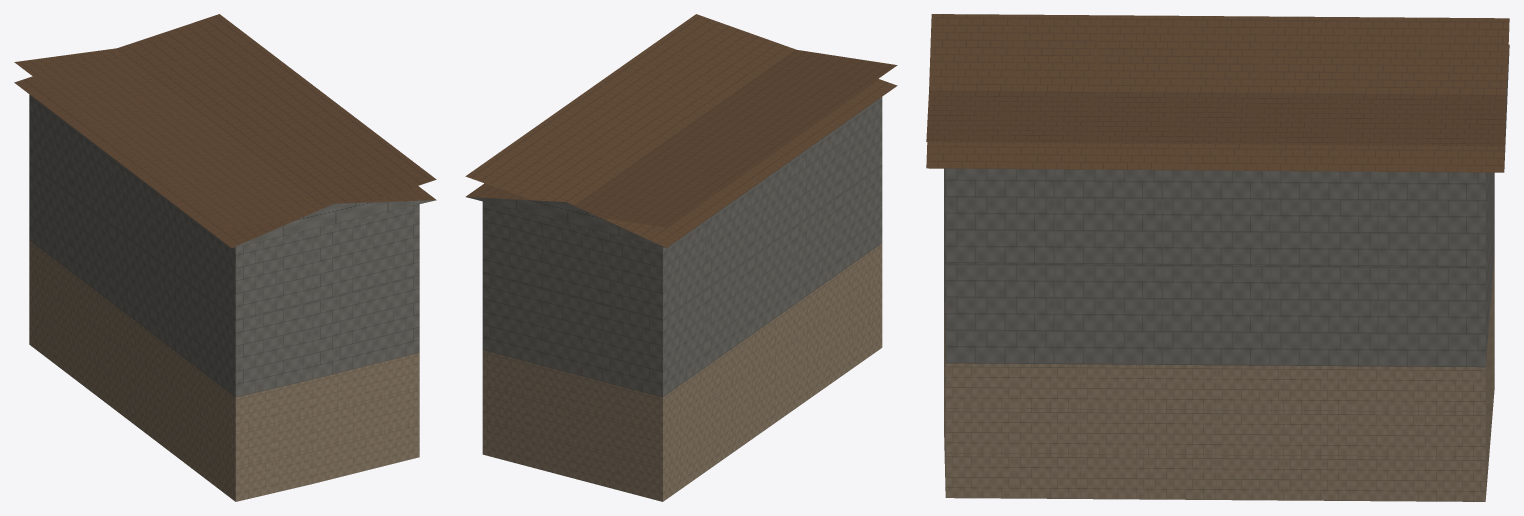
Rendered from bld_c32_-39_452.gltf.
3 views of the same model, side by side, from view 1: azimuth 30°, elevation 25°; view 2: azimuth 150°, elevation 25°; view 3: azimuth 270°, elevation 25° (orthographic). The views are drawn at different scales.
Visible parts, largest first — view 1: bld_c32_-39_452; view 2: bld_c32_-39_452; view 3: bld_c32_-39_452.
Part boxes in pixels (x1,y1,x2,y2): bld_c32_-39_452: [14, 14, 436, 501]; bld_c32_-39_452: [465, 14, 897, 501]; bld_c32_-39_452: [926, 14, 1509, 501].
Bounding box in the file's own units: 10.74 × 13.7 × 20.
Materials: 4 (4 with a texture image).
